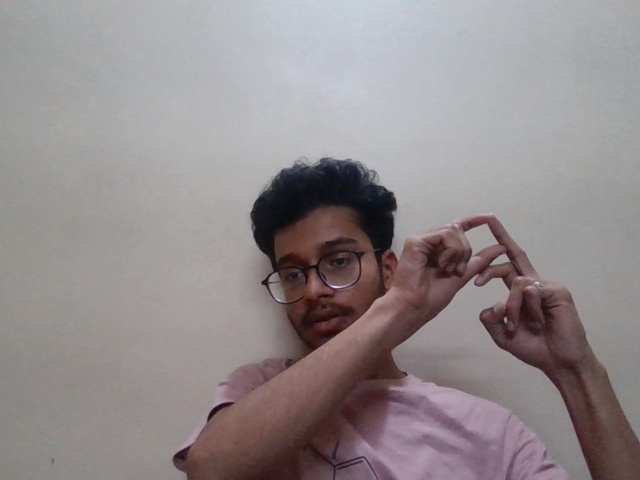R: (390, 213, 607, 378)
